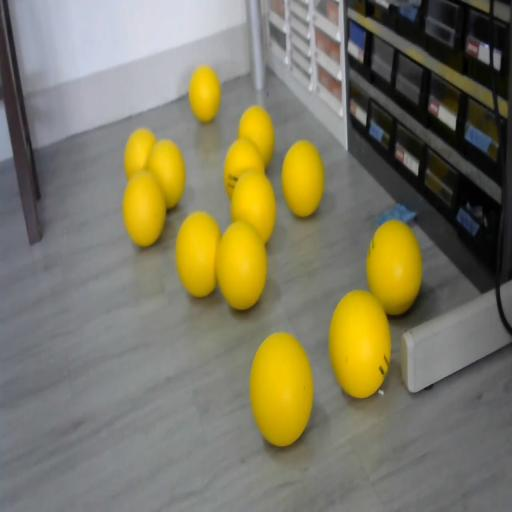FUEL: (248, 331, 314, 445), (328, 288, 392, 398), (366, 220, 422, 315), (175, 210, 221, 296), (230, 169, 277, 244), (281, 140, 325, 218), (122, 170, 166, 246), (238, 106, 276, 166), (188, 65, 221, 122), (124, 128, 156, 180)
